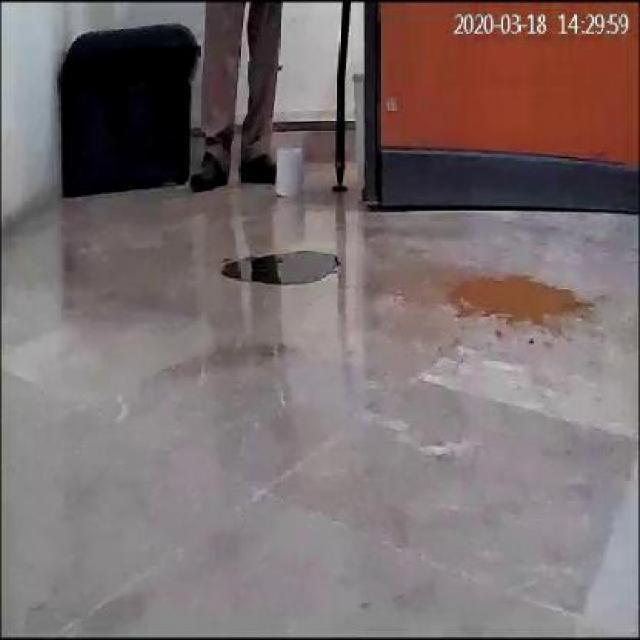spill: (449, 270, 583, 332), (225, 246, 342, 288)
